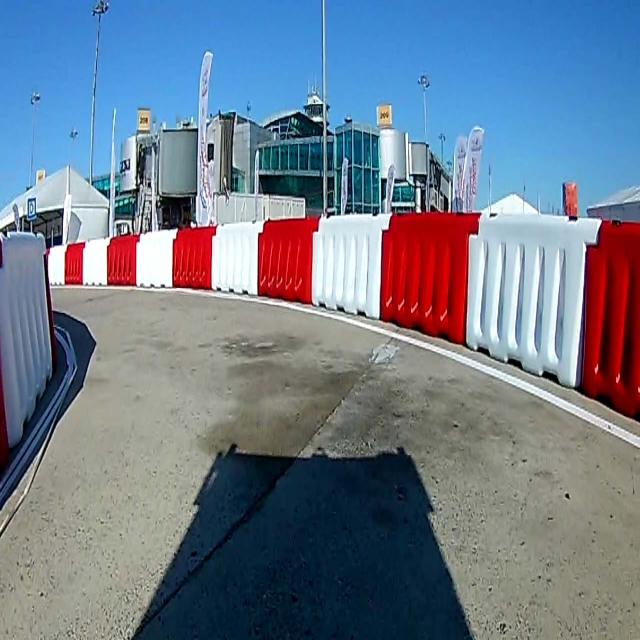durak: (28, 198, 36, 220)
